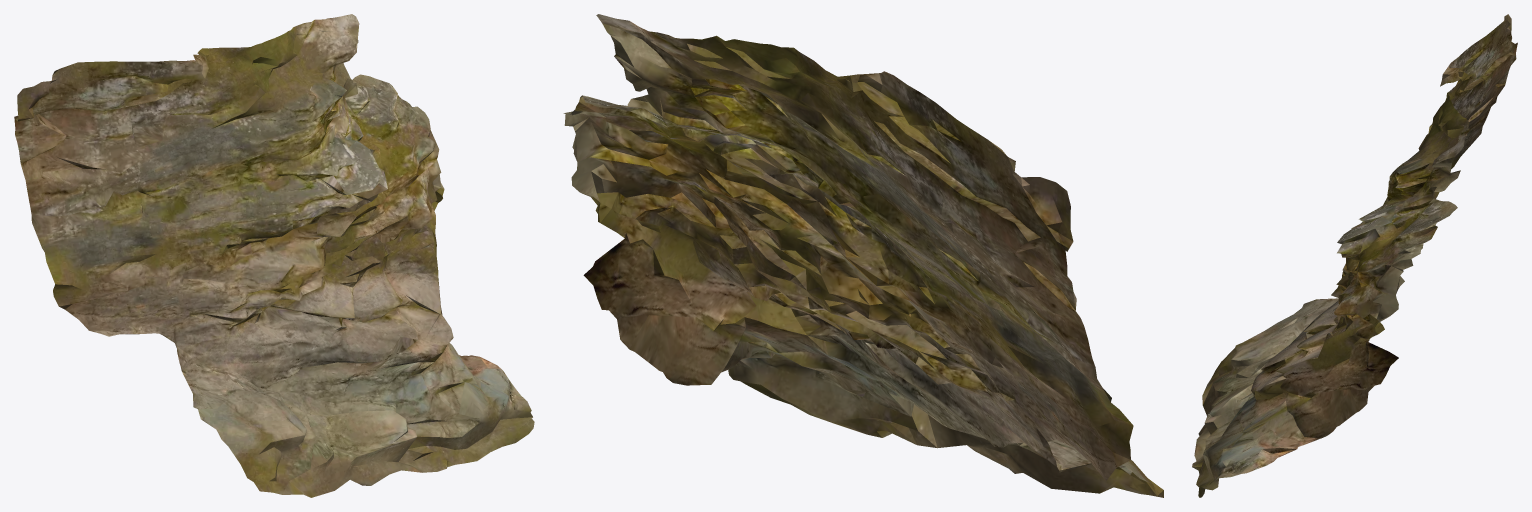
Rendered from rock_face_b.glb.
The picture shows the model from 3 angles, left to right: view 1: azimuth 30°, elevation 25°; view 2: azimuth 150°, elevation 25°; view 3: azimuth 270°, elevation 25°; orthographic projection. The views are drawn at different scales.
Visible parts, largest first — view 1: rock_face_b; view 2: rock_face_b; view 3: rock_face_b.
Boxes of the visible parts, x1,y1,x2,y2 form: rock_face_b: [14, 14, 534, 497]; rock_face_b: [563, 14, 1163, 497]; rock_face_b: [1192, 14, 1517, 497].
Size of the model in its own units: 2.71 by 2.48 by 2.13.
1 material, 1 textured.
